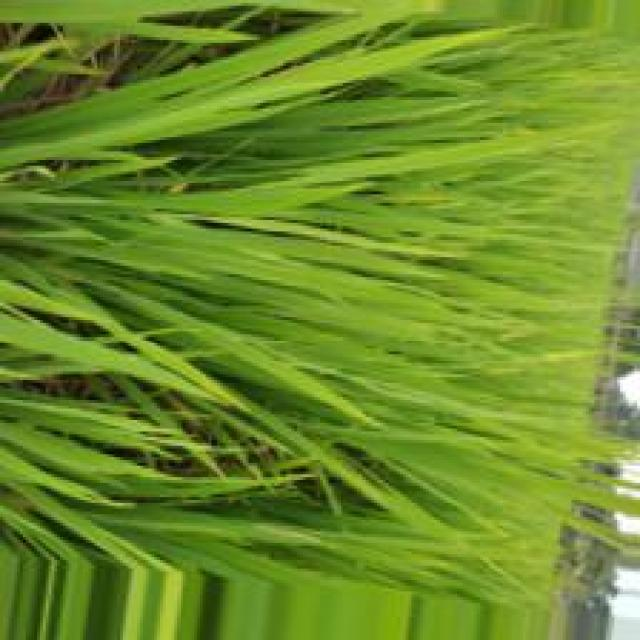HealthyLeaf: (13, 85, 137, 143), (156, 228, 260, 270), (178, 541, 295, 577), (195, 190, 278, 212)
